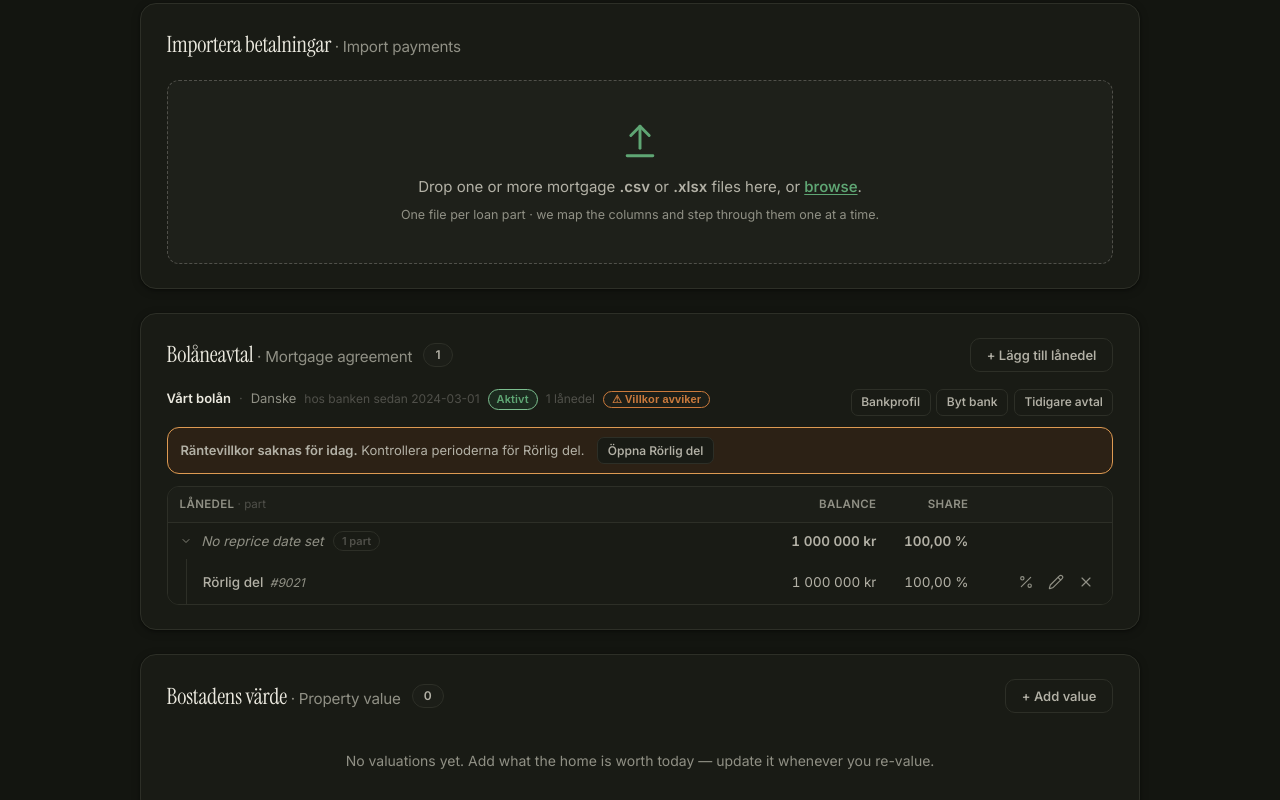
Test: Bolanekoll — agreement card (plan 109c Stage 1) › shows the drift badge when detection contradicts a locked value, and opens the profile modal
This screenshot has width=1280, height=800.
(page scrolled)
Click the button "⚠ Villkor avviker".
click(657, 400)  # box [603,391,710,408]
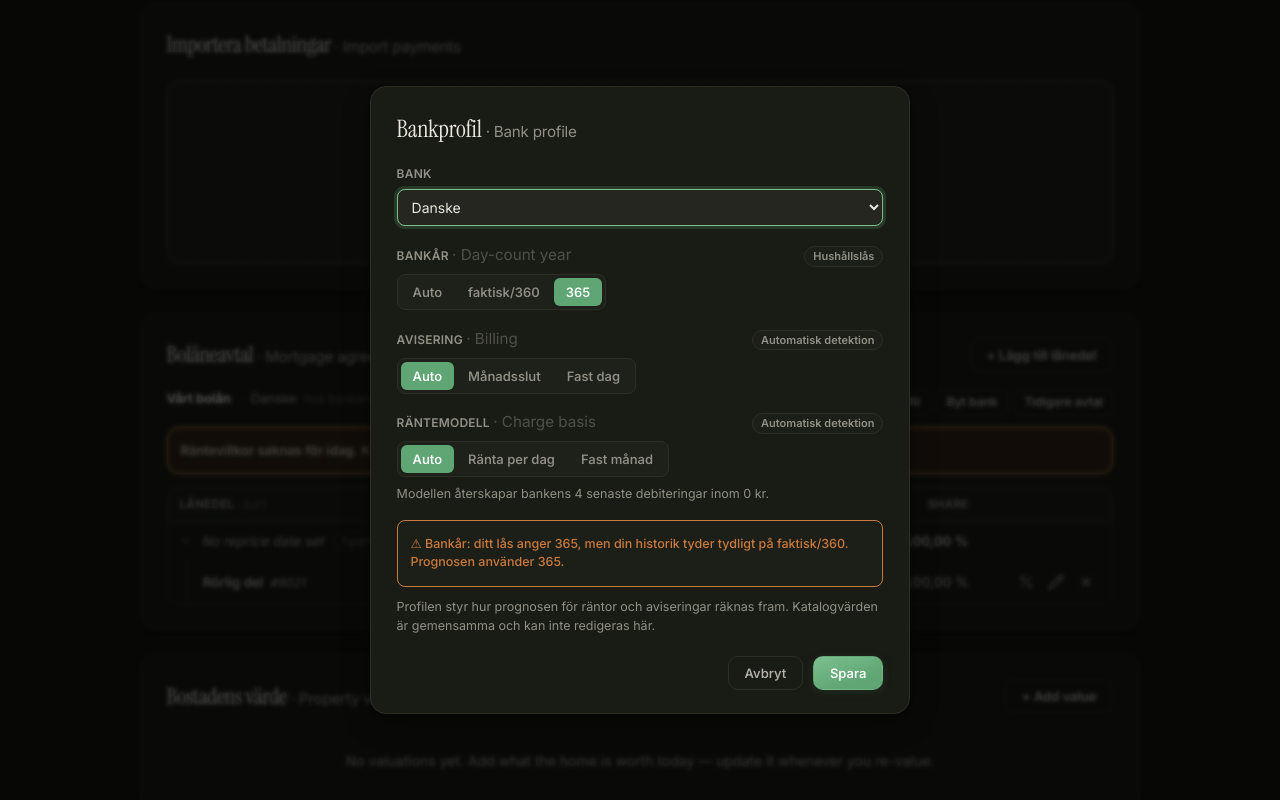
expect the heading "Bankprofil · Bank profile" is shown: met, box [397,114,577,144]
expect the text "tyder tydligt på" is shown: met, box [410,536,848,569]
expect the text "Modellen återskapar bankens 4 senaste debiteringar inom 0 kr." is shown: met, box [397,486,769,501]
